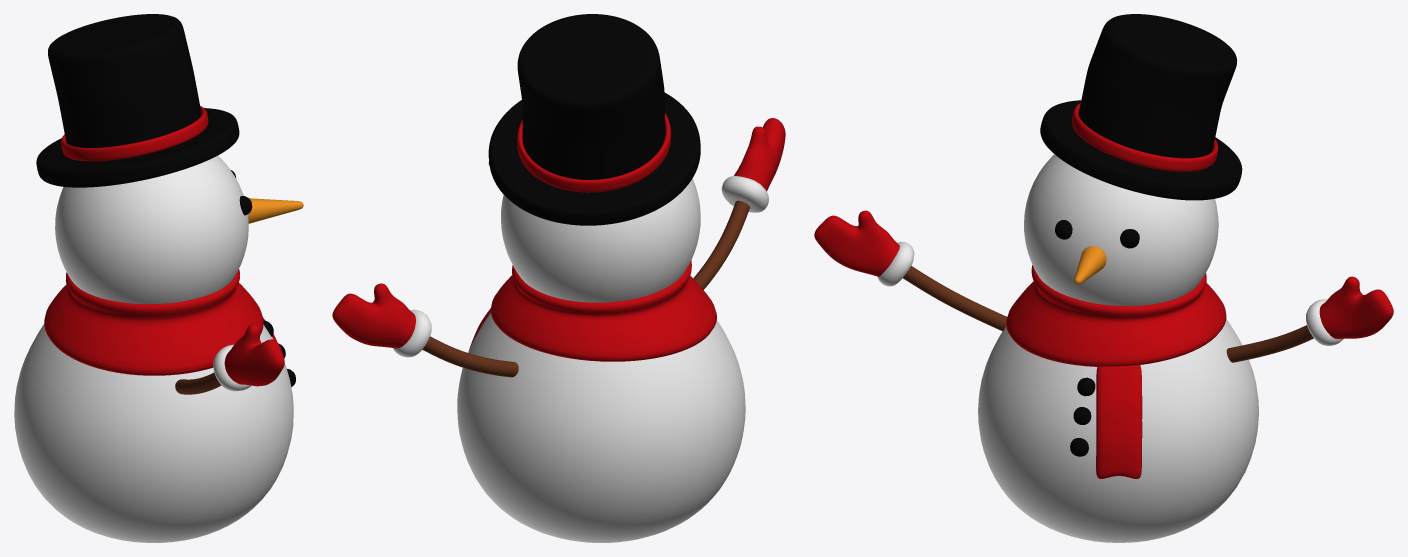
File: Снеговик.fbx
3 views of the same model, side by side, from view 1: azimuth 30°, elevation 25°; view 2: azimuth 150°, elevation 25°; view 3: azimuth 270°, elevation 25° (orthographic). The views are drawn at different scales.
Parts seen in each view (by area): view 1: Snowman 3d illustration, Circle.001, Cube.001, Circle, Cube.007, Circle.001_Piece, Cube.006, Vert, Cylinder; view 2: Snowman 3d illustration, Circle.001, Cube.001, Circle, Cube.007, Vert, Circle.001_Piece, Cylinder; view 3: Snowman 3d illustration, Circle.001, Cube.001, Circle, Cube.007, Plane, Vert, Circle.001_Piece, Cylinder, Cube.004, Cube.006.
Part boxes in pixels (x1=…): Snowman 3d illustration: x1=14, y1=324, x2=293, y2=542; Circle.001: x1=36, y1=14, x2=239, y2=187; Cube.001: x1=55, y1=155, x2=248, y2=304; Circle: x1=44, y1=269, x2=263, y2=375; Cube.007: x1=224, y1=324, x2=284, y2=386; Circle.001_Piece: x1=61, y1=106, x2=208, y2=161; Cube.006: x1=248, y1=198, x2=303, y2=223; Vert: x1=175, y1=372, x2=221, y2=394; Cylinder: x1=213, y1=344, x2=251, y2=391; Snowman 3d illustration: x1=457, y1=312, x2=745, y2=542; Circle.001: x1=488, y1=14, x2=700, y2=225; Cube.001: x1=501, y1=178, x2=700, y2=302; Circle: x1=490, y1=260, x2=716, y2=361; Cube.007: x1=332, y1=118, x2=785, y2=348; Vert: x1=422, y1=200, x2=749, y2=377; Circle.001_Piece: x1=517, y1=113, x2=670, y2=192; Cylinder: x1=393, y1=176, x2=768, y2=357; Snowman 3d illustration: x1=978, y1=319, x2=1258, y2=542; Circle.001: x1=1040, y1=14, x2=1242, y2=200; Cube.001: x1=1024, y1=154, x2=1218, y2=306; Circle: x1=1006, y1=265, x2=1226, y2=366; Cube.007: x1=814, y1=210, x2=1393, y2=338; Plane: x1=1096, y1=365, x2=1142, y2=478; Vert: x1=903, y1=266, x2=1313, y2=362; Circle.001_Piece: x1=1072, y1=103, x2=1218, y2=171; Cylinder: x1=877, y1=241, x2=1343, y2=345; Cube.004: x1=1070, y1=377, x2=1095, y2=456; Cube.006: x1=1074, y1=246, x2=1106, y2=284.
Bounding box in the file's own units: 103 × 193 × 206.
